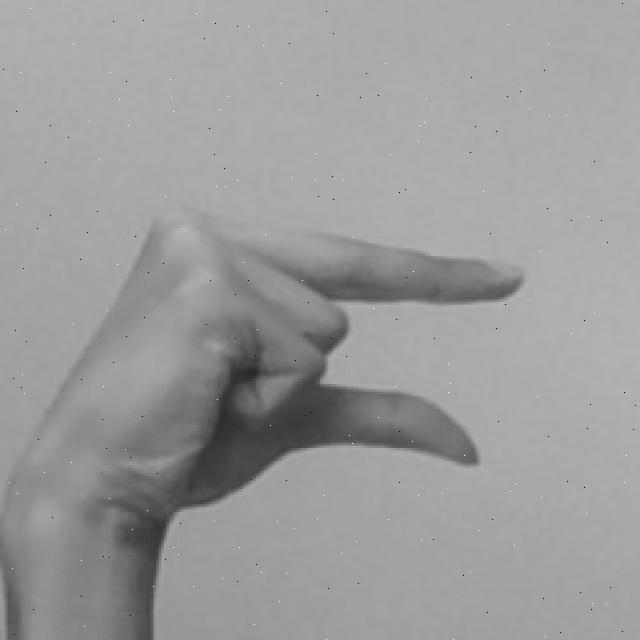G: (0, 201, 527, 639)
